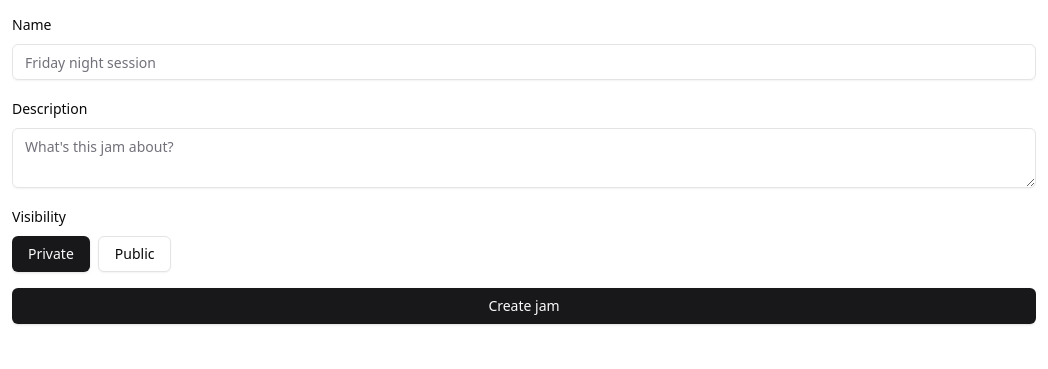
Test: CreateJamForm › requires a name
This screenshot has width=1048, height=369.
Click the button "Create jam" at (524, 306), box [12, 288, 1036, 324]
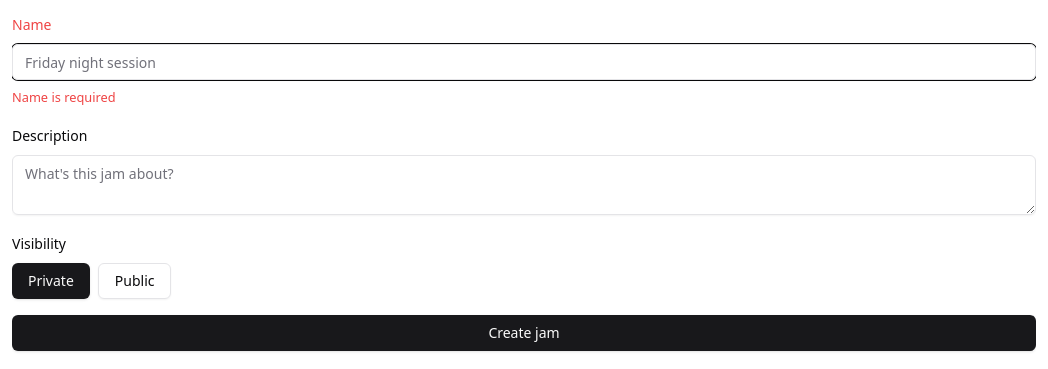
Expected: the text "Name is required" is shown, [12, 88, 116, 106]
